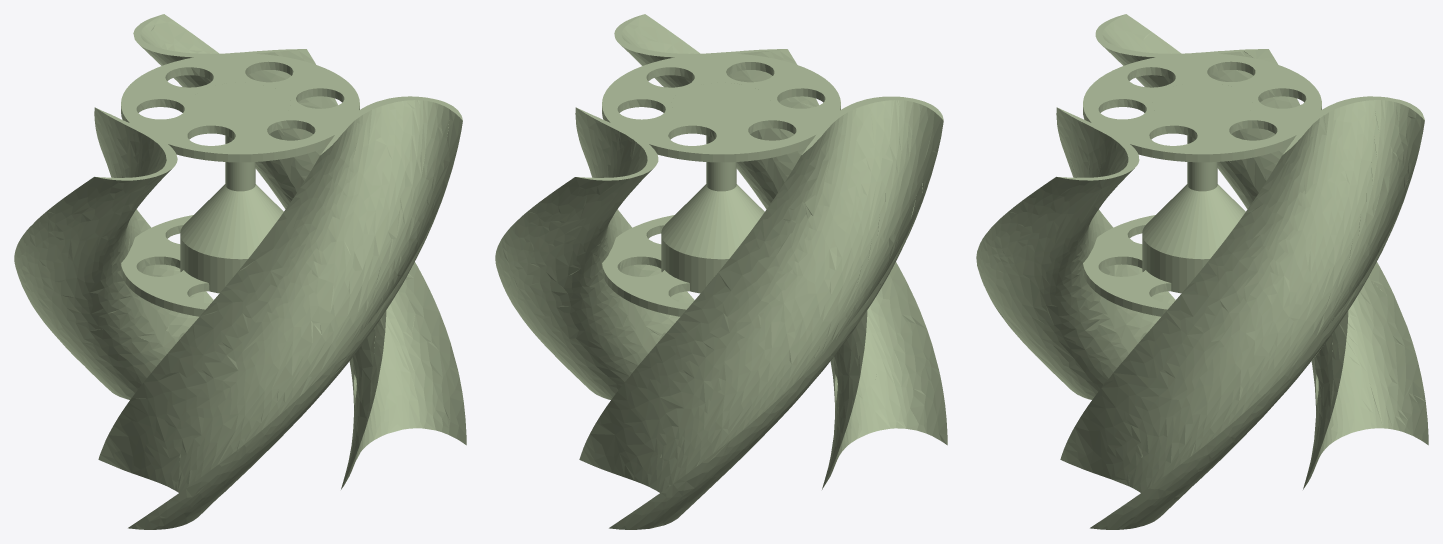
File: windmill-blade.glb
3 views of the same model, side by side, from view 1: azimuth 30°, elevation 25°; view 2: azimuth 150°, elevation 25°; view 3: azimuth 270°, elevation 25° (orthographic).
Visible parts, largest first — view 1: windmill-blade.stl; view 2: windmill-blade.stl; view 3: windmill-blade.stl.
Part boxes in pixels (x1,y1,x2,y2): windmill-blade.stl: (14,14,466,529); windmill-blade.stl: (495,14,947,529); windmill-blade.stl: (976,14,1428,529).
Bounding box in the file's own units: 120 × 100 × 120.
